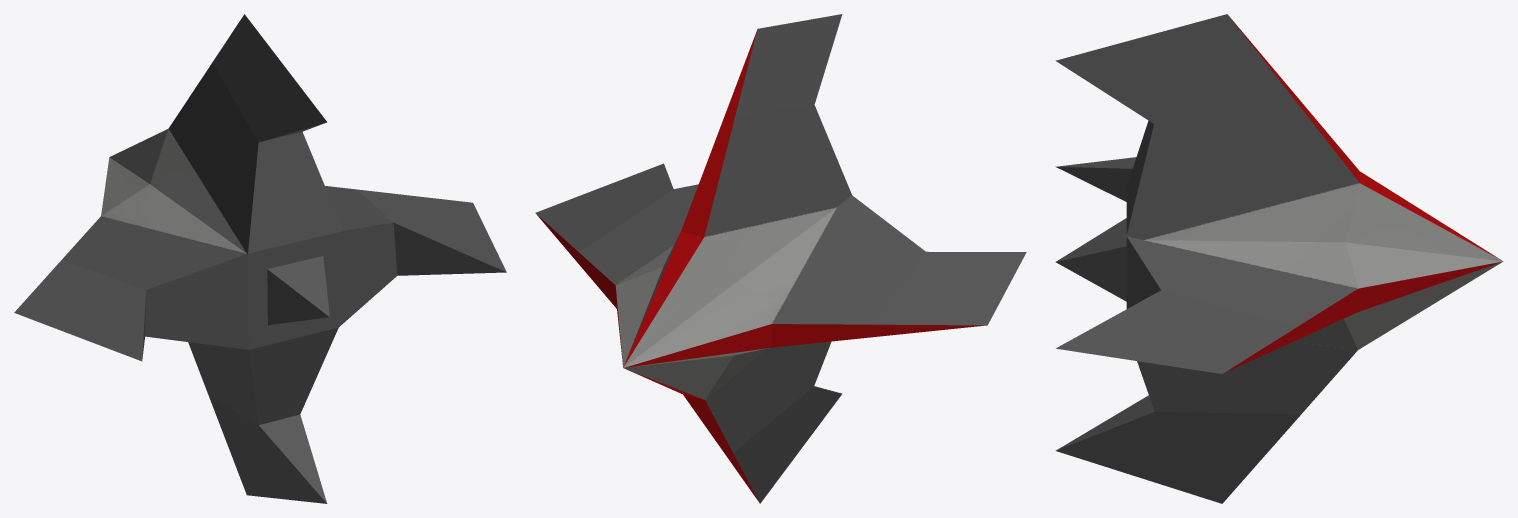
Rendered from alienDronev2.0.glb.
3 views of the same model, side by side, from view 1: azimuth 30°, elevation 25°; view 2: azimuth 150°, elevation 25°; view 3: azimuth 270°, elevation 25° (orthographic). The views are drawn at different scales.
Parts seen in each view (by area): view 1: DroneBody; view 2: DroneBody; view 3: DroneBody.
Part boxes in pixels (x1,y1,x2,y2): DroneBody: (14, 14, 506, 503); DroneBody: (535, 14, 1026, 503); DroneBody: (1055, 14, 1503, 503).
Size of the model in its own units: 1.96 by 1.96 by 1.63.
1 material, 1 textured.
